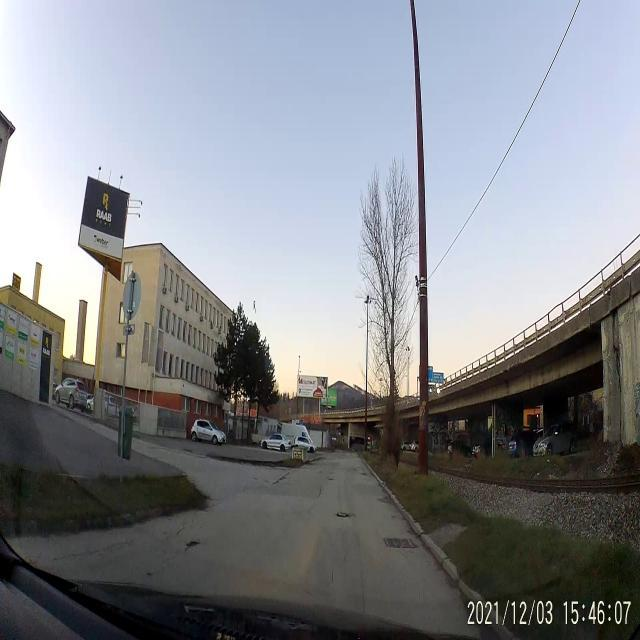Manhole: (381, 536, 416, 554)
Pothole: (184, 536, 202, 551), (336, 512, 354, 522)
